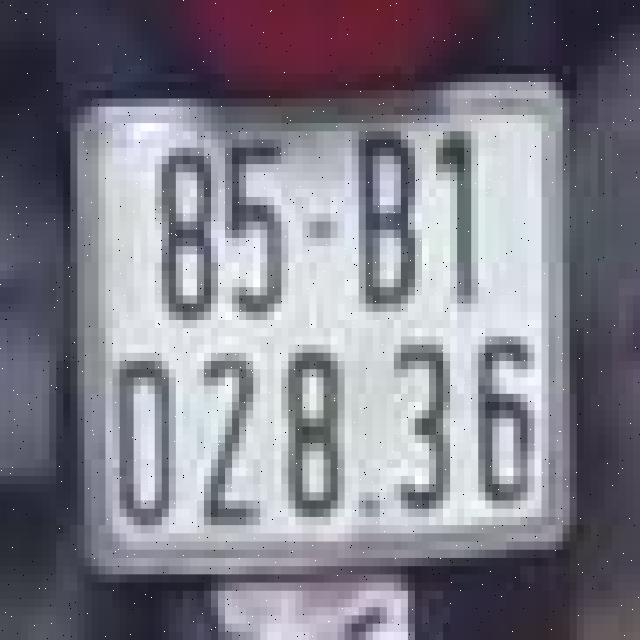0: (105, 349, 176, 529)
1: (429, 123, 485, 320)
2: (193, 349, 264, 529)
3: (387, 336, 457, 517)
5: (225, 131, 288, 328)
6: (471, 328, 542, 517)
8: (151, 135, 222, 324), (281, 345, 352, 517)
B: (355, 127, 419, 316)
